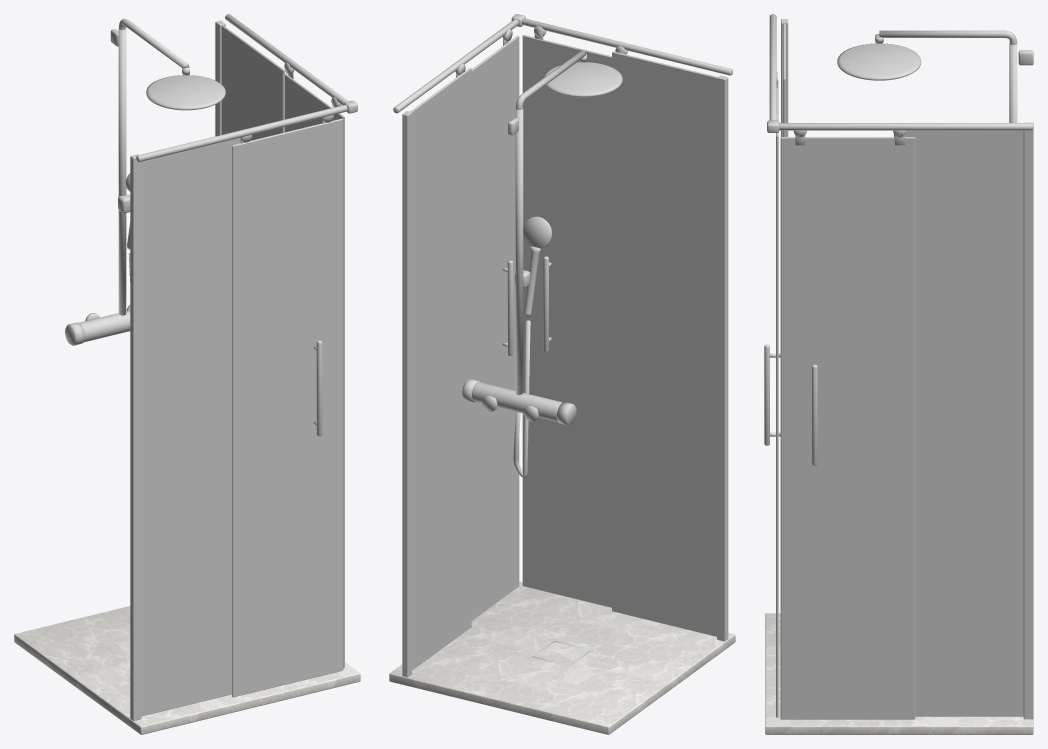
The model's file is ducha_angular_80x80.glb.
3 renders of one model, left to right at view 1: azimuth 30°, elevation 25°; view 2: azimuth 150°, elevation 25°; view 3: azimuth 270°, elevation 25°, orthographic. The views are drawn at different scales.
Visible parts, largest first — view 1: ducha_angular_80x80; view 2: ducha_angular_80x80; view 3: ducha_angular_80x80.
Part boxes in pixels (box(x1,y1,x2,y2)): ducha_angular_80x80: box(14, 14, 360, 734); ducha_angular_80x80: box(389, 14, 735, 734); ducha_angular_80x80: box(764, 14, 1033, 734).
Size of the model in its own units: 0.8031 by 2.11 by 0.8033.
Materials: 3 (1 with a texture image).
